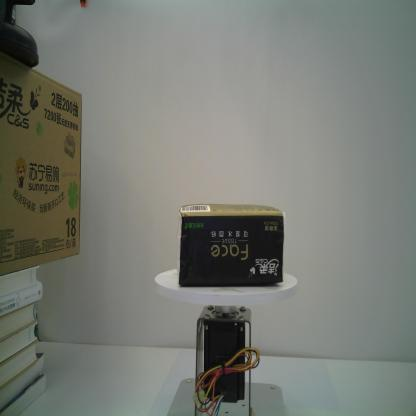Tissue: (176, 202, 286, 288)
